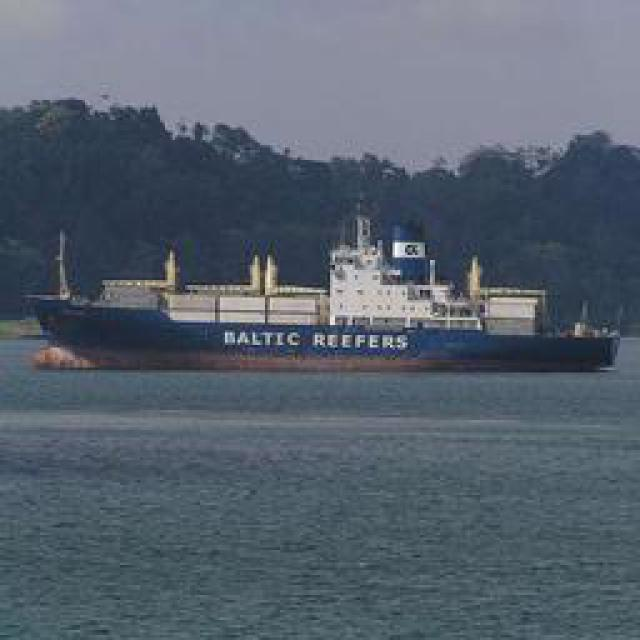Ship: (1, 281, 619, 374)
